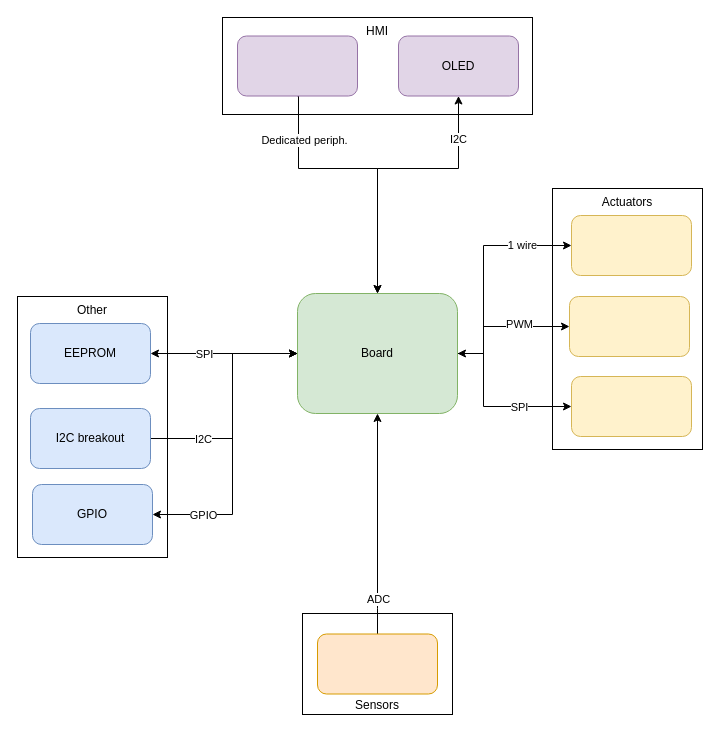
Image size: 720x732. Some labels were removed from this diagram. The centre of each missing label's shape, as x and y in pixels:
"Addressable leds" goes at pixel 631 245.
"Encoder" goes at pixel 297 65.
"Servo" goes at pixel 629 326.
"Shift reg w leds" goes at pixel 631 406.
"Temp sensor LM35" goes at pixel 377 663.
